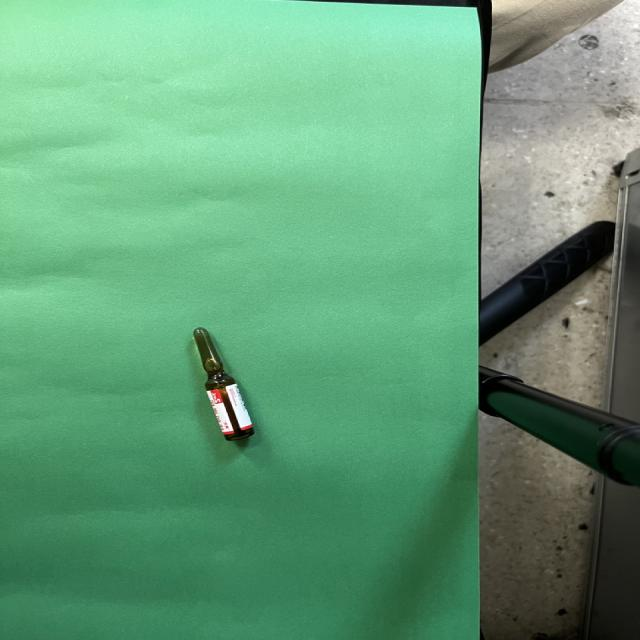Ampoules: (193, 328, 255, 442)
